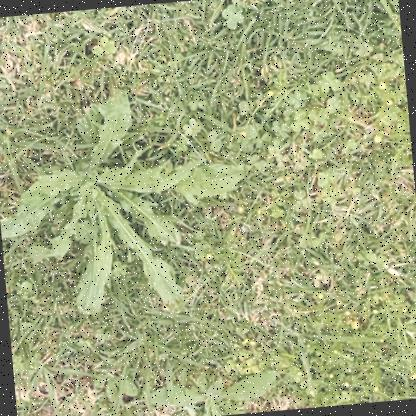Weeds: (0, 79, 260, 328), (149, 361, 280, 415)
